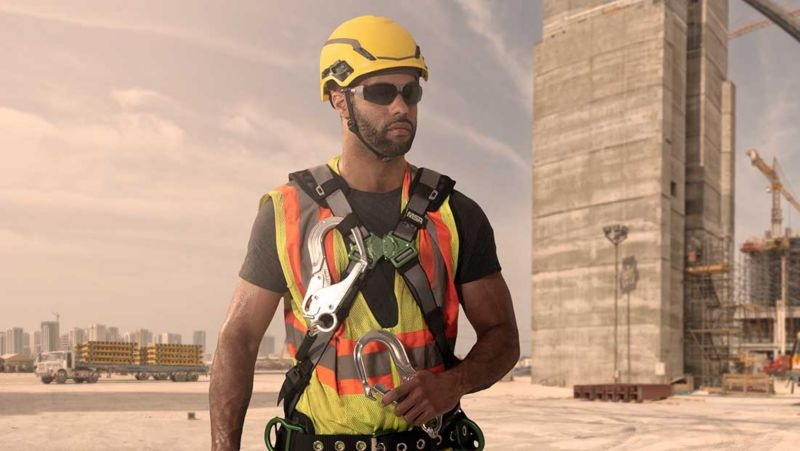Helmet: (320, 19, 430, 85)
Person: (263, 15, 494, 451)
Safety_Harness: (283, 163, 466, 451)
Safety_goggles: (355, 80, 421, 109)
